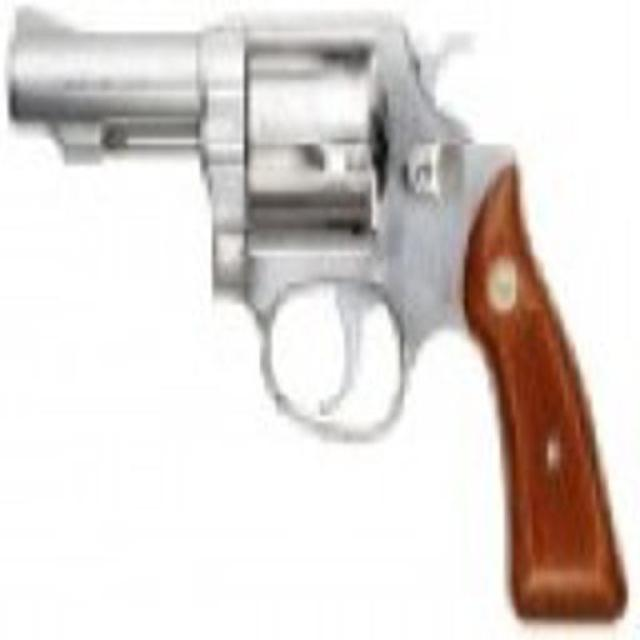pistol: (7, 5, 620, 617)
